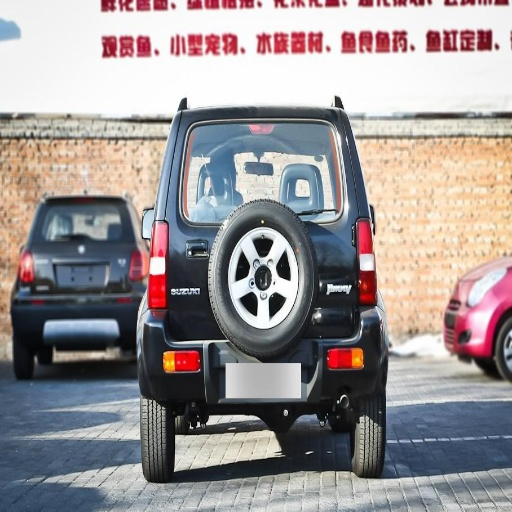back_bumper: (12, 285, 124, 346), (135, 308, 197, 373), (323, 301, 366, 372)
tailgate: (30, 240, 123, 289)
trunk: (176, 153, 351, 299)
